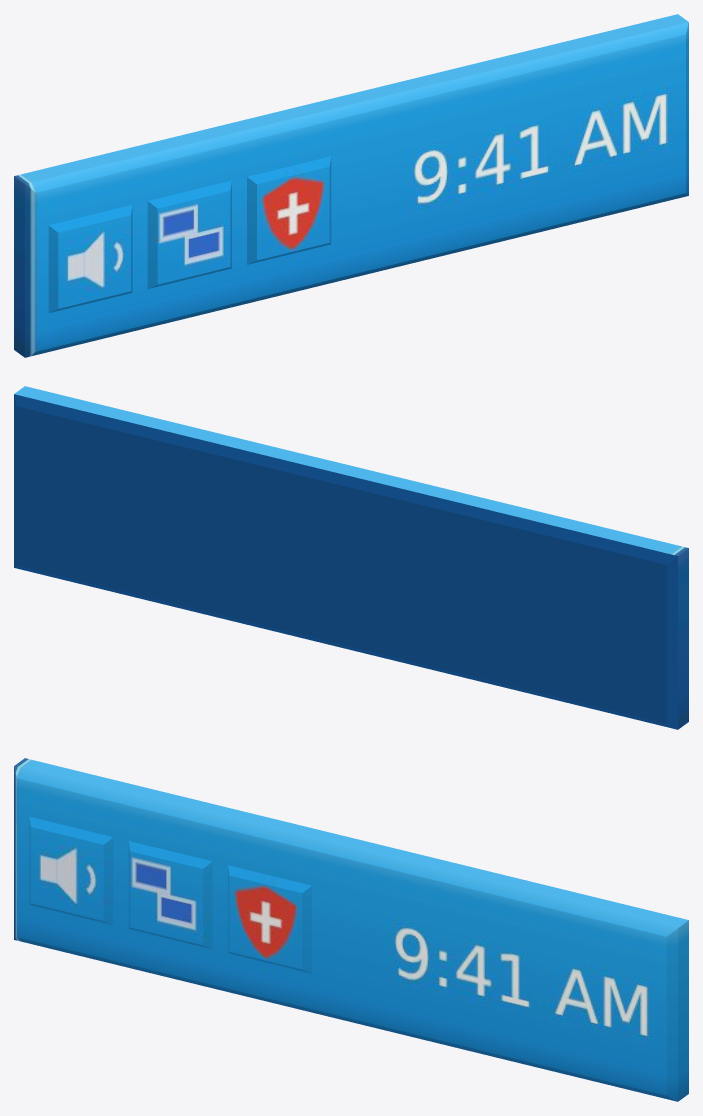
The model's file is taskbar-tray.glb.
3 renders of one model, top to bottom at view 1: azimuth 30°, elevation 25°; view 2: azimuth 150°, elevation 25°; view 3: azimuth 330°, elevation 25°, orthographic.
Parts seen in each view (by area): view 1: tray; view 2: tray; view 3: tray.
Part boxes in pixels (x1,y1,x2,y2): tray: (14,14,688,357); tray: (14,386,688,729); tray: (14,758,688,1101).
Size of the model in its own units: 0.56 by 0.14 by 0.034.
1 material, 1 textured.
